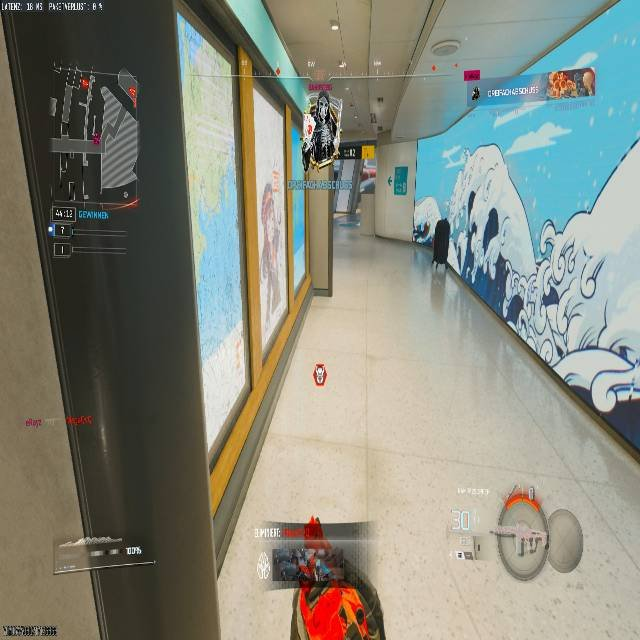player: (272, 543, 386, 640), (302, 91, 340, 169)
